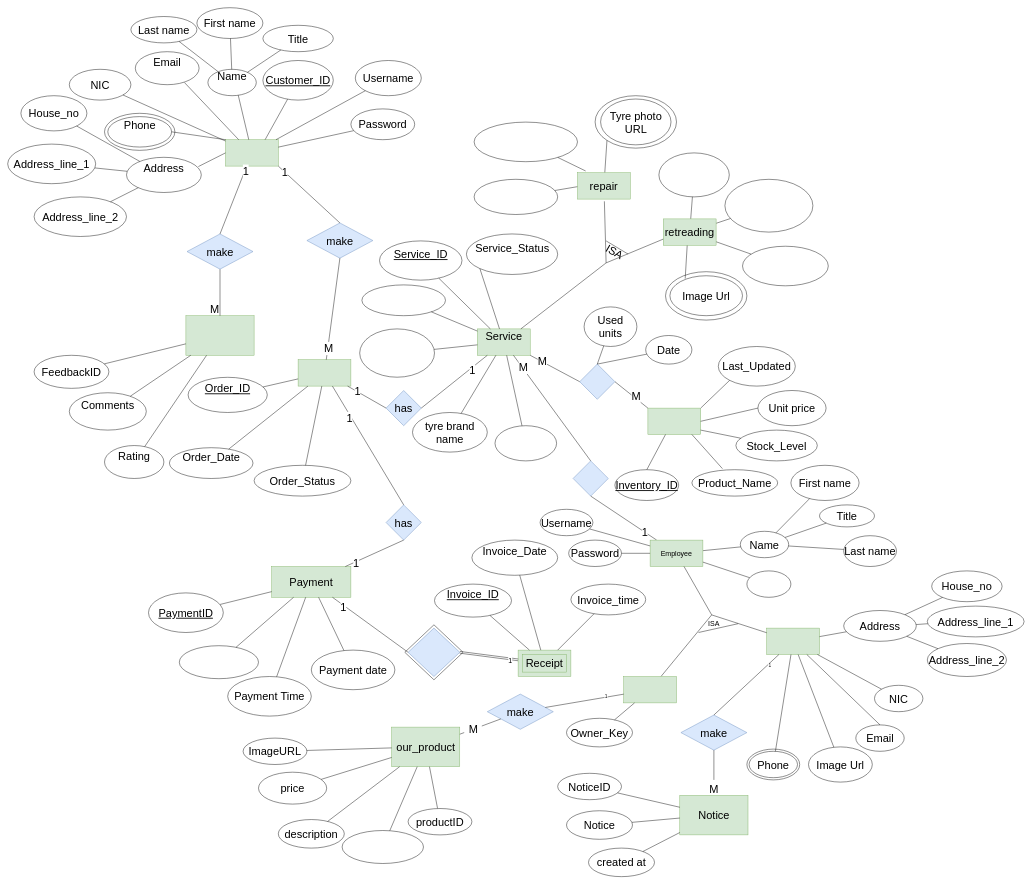
This 1032x884 diagram has some shape labels left out. Each missing label, with the centre of its shape:
"Amount" belongs at (218,662).
"Customer" belongs at (251,152).
"do" belongs at (590,478).
"Emp_ID" belongs at (768,583).
"Feedback" belongs at (219,335).
"generates" belongs at (434,652).
"Inventory" belongs at (674,421).
"Number of Patches Applied" belongs at (526,142).
"Order" belongs at (324,372).
"Owner" belongs at (649,689).
"Preferred Completion Date" belongs at (396,352).
"productName" belongs at (383,847).
"Puncture Size" belongs at (516,196).
"Size Code" belongs at (526,443).
"Tire Width" belongs at (693,174).
"tyre pttern" belongs at (785,266).
"Tyre Structure" belongs at (403,300).
"use" belongs at (597,381).
"Wheel Diameter" belongs at (768,205).
"Worker" belongs at (793,641).
